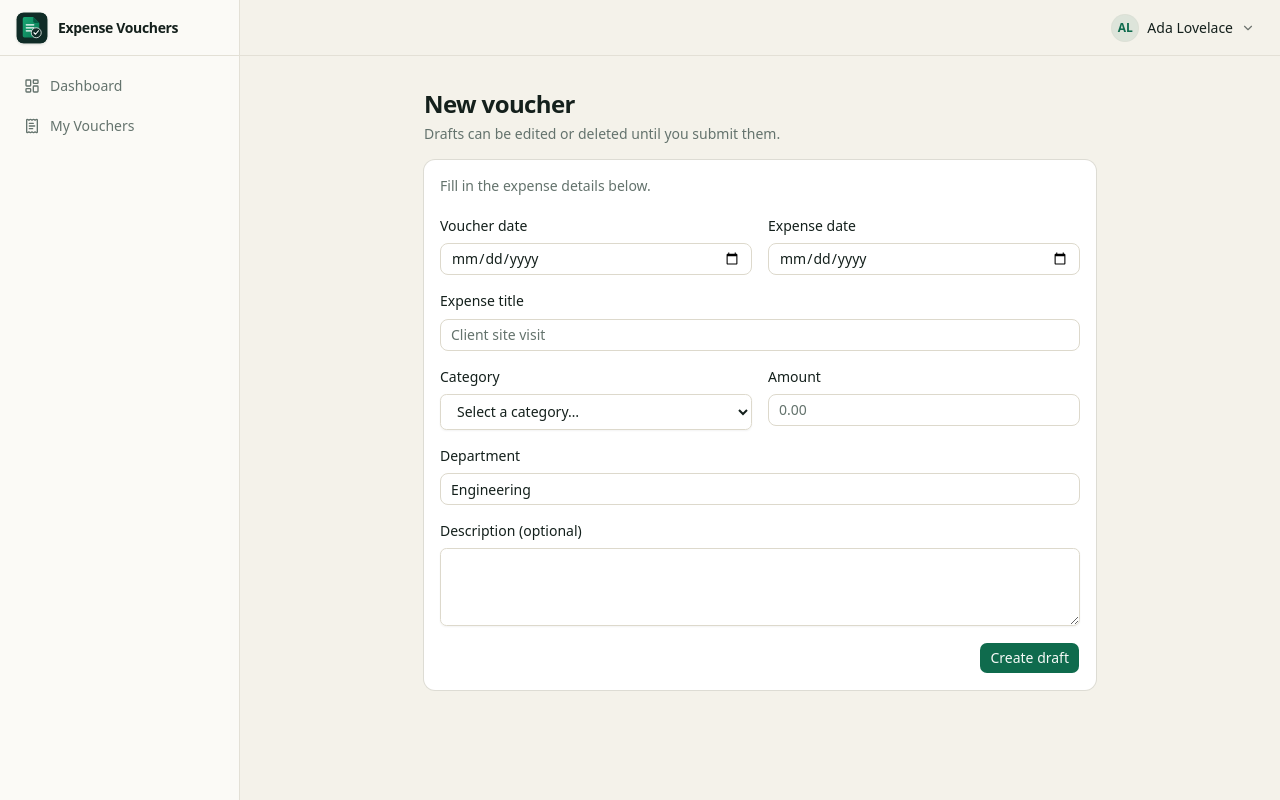
Scenario: voucher pages › blocks creating a voucher until required fields are valid
Click the button "Create draft".
click(1030, 658)  # box [980,642,1080,674]
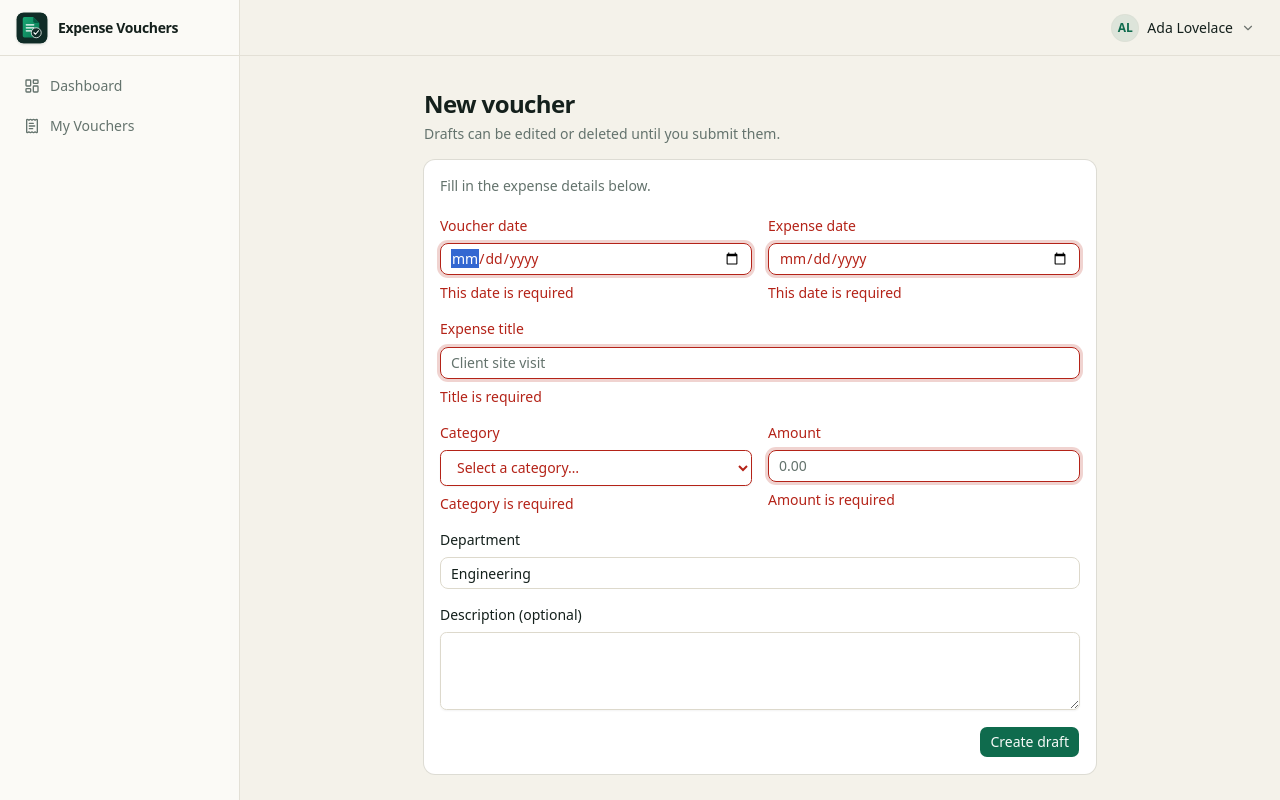
Now the text "This date is required" below "Voucher date" is shown, box [440,283,574,302]
Now the text "Title is required" is shown, box [440,386,542,406]
Now the text "Amount is required" is shown, box [768,490,895,509]
